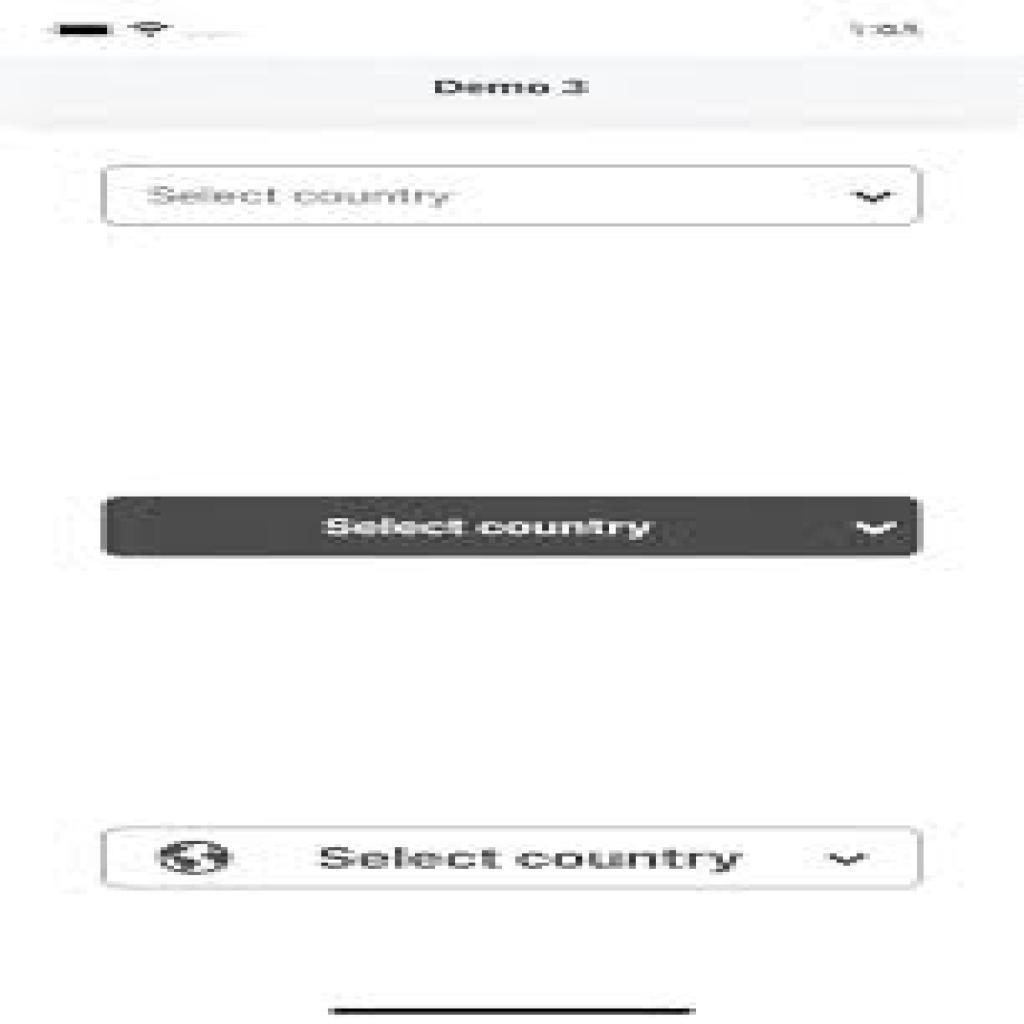dropdown: (103, 495, 922, 561), (102, 168, 922, 229), (104, 829, 920, 887)
icon: (151, 839, 243, 876)
